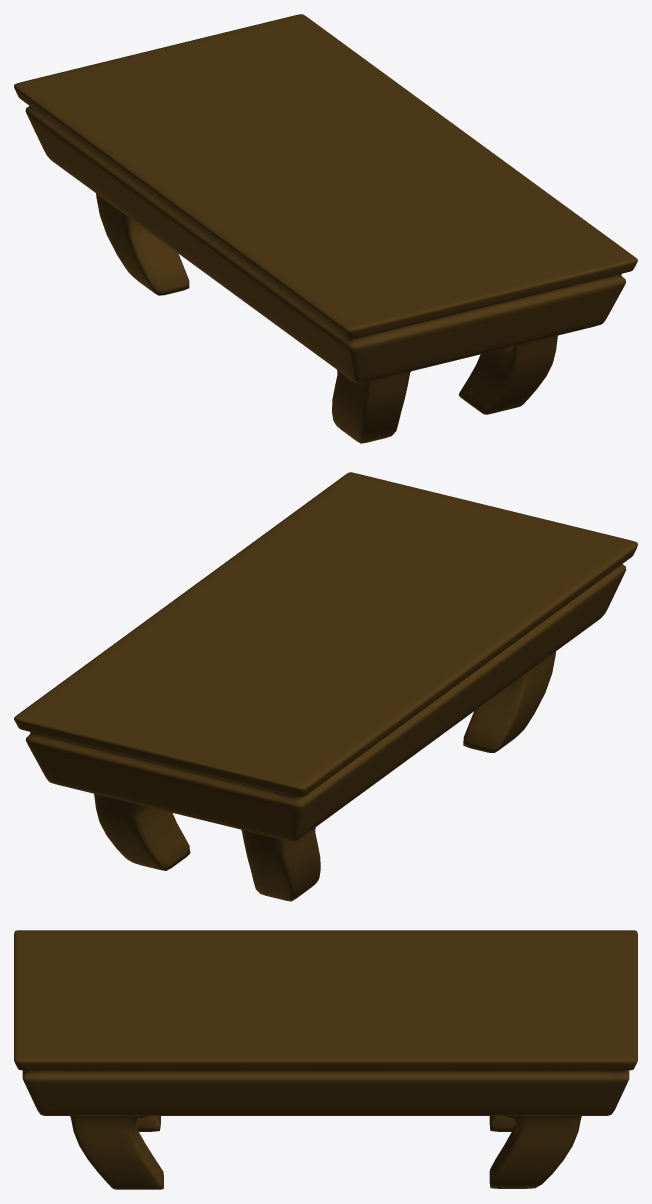
The model's file is geo_table.fbx.
The picture shows the model from 3 angles, top to bottom: view 1: azimuth 30°, elevation 25°; view 2: azimuth 150°, elevation 25°; view 3: azimuth 270°, elevation 25°; orthographic projection. The views are drawn at different scales.
Parts seen in each view (by area): view 1: table; view 2: table; view 3: table.
Part boxes in pixels (x1,y1,x2,y2): table: [14, 14, 637, 443]; table: [14, 472, 637, 901]; table: [14, 930, 637, 1189].
Size of the model in its own units: 199 by 112 by 399.
